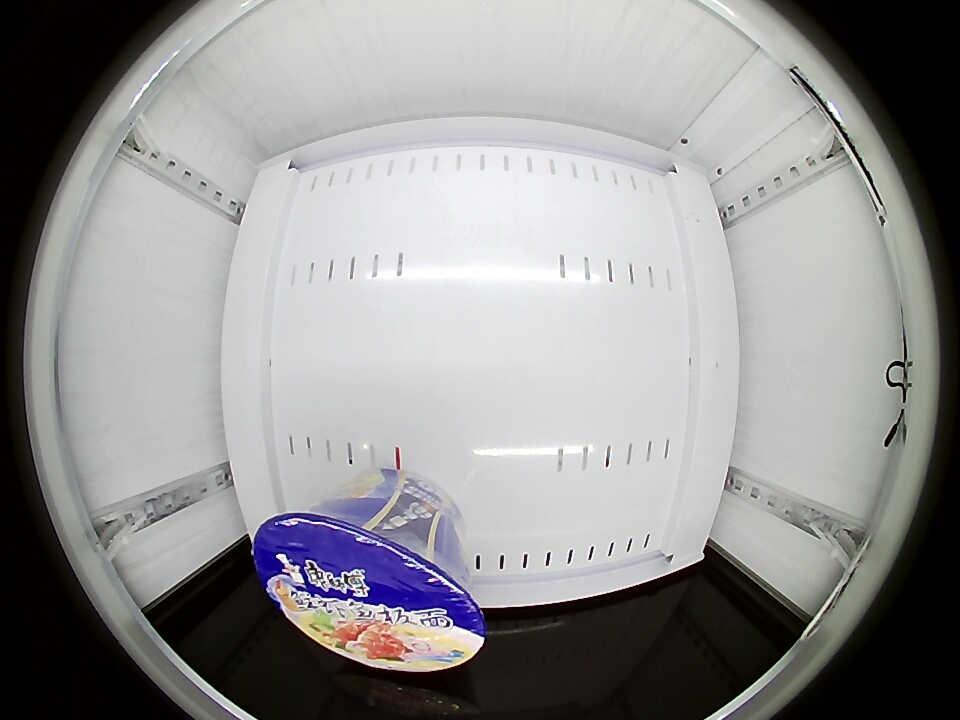xianxiayuban: (253, 509, 486, 672)
